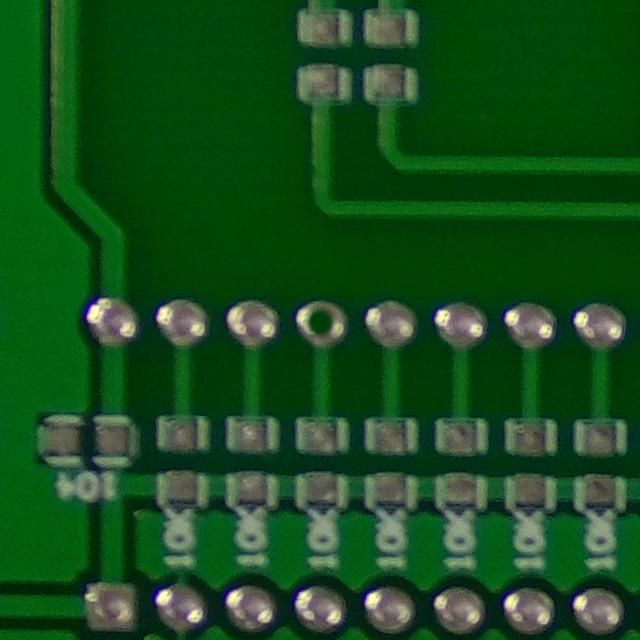missing_hole: (289, 292, 355, 353)
